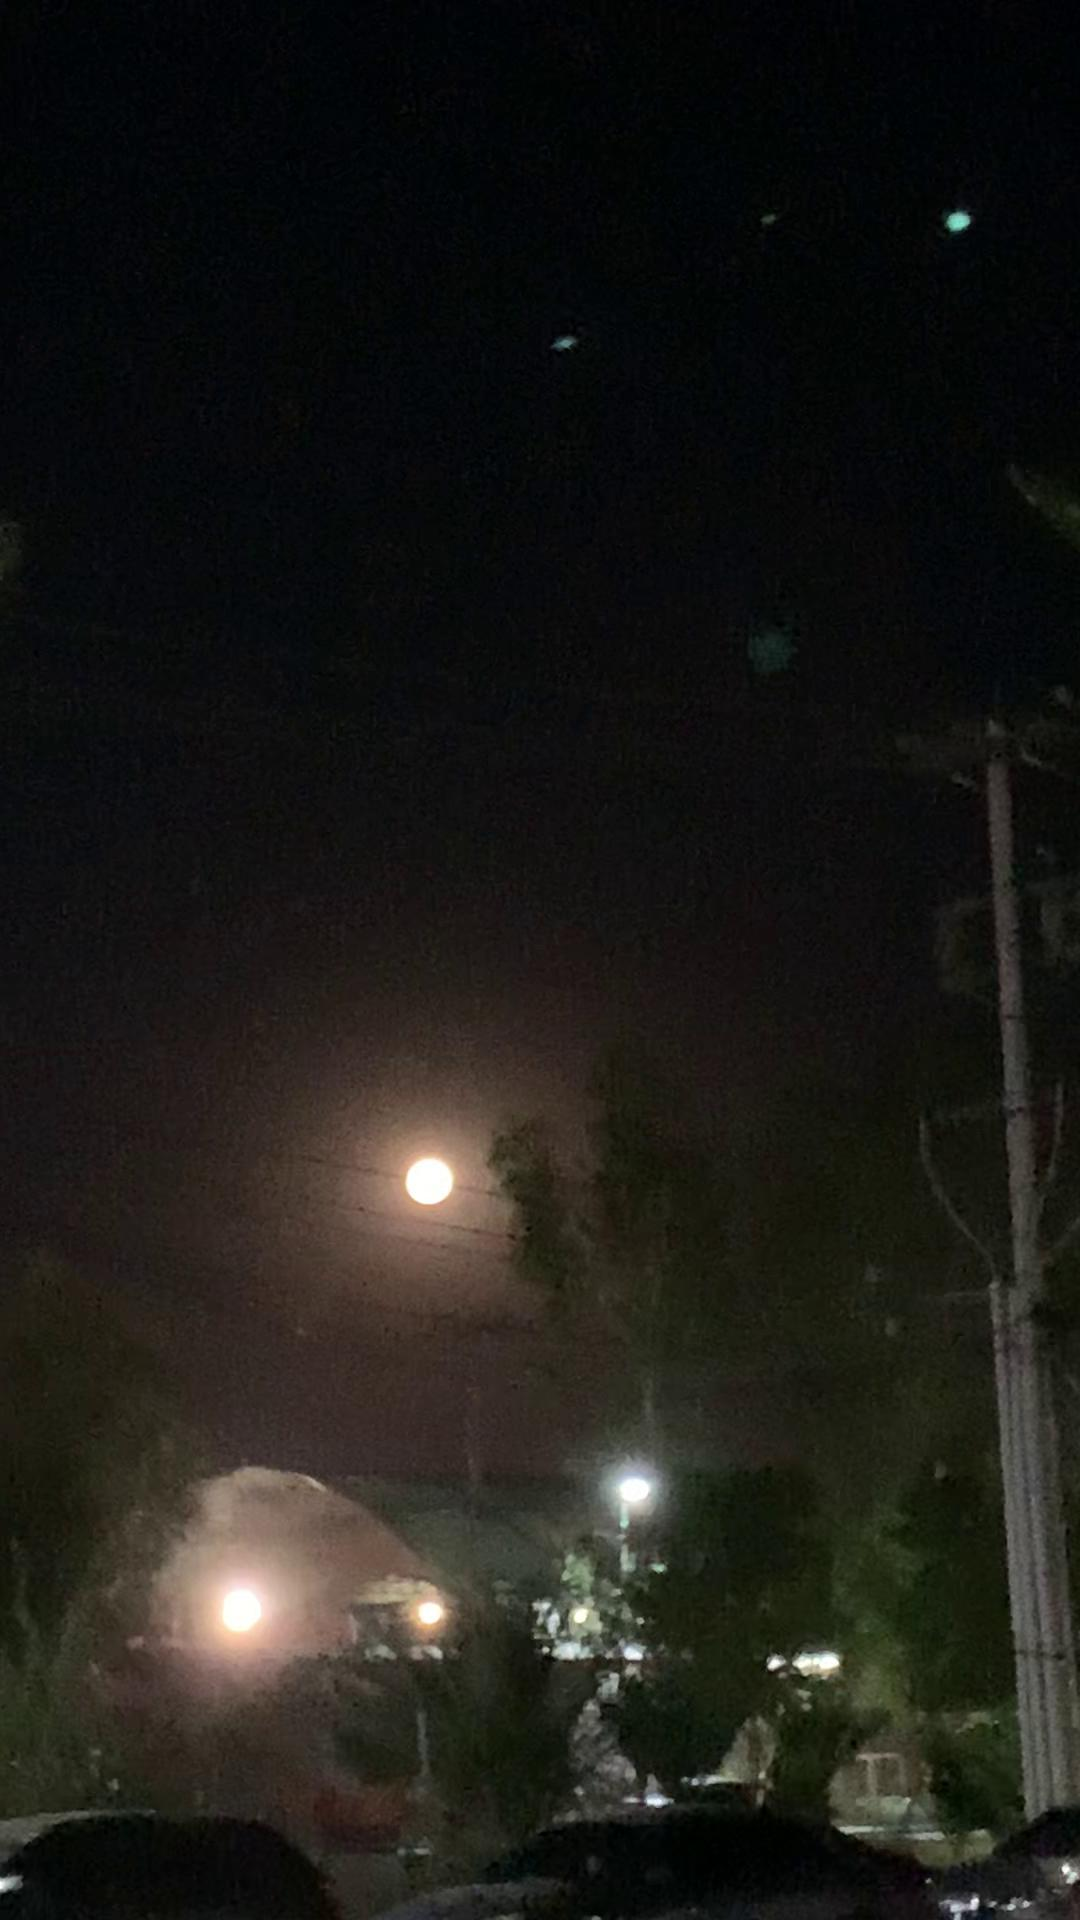moon: (382, 1129, 472, 1205)
